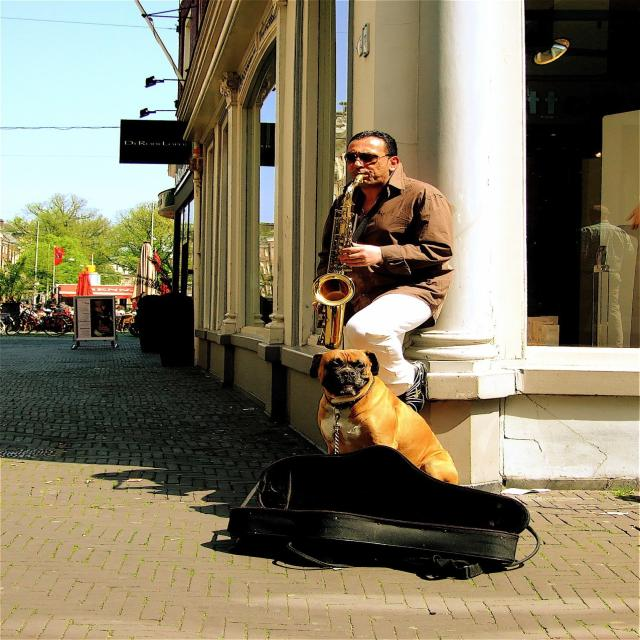saxophone: (310, 172, 373, 349)
